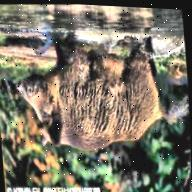boar: (11, 19, 191, 179)
